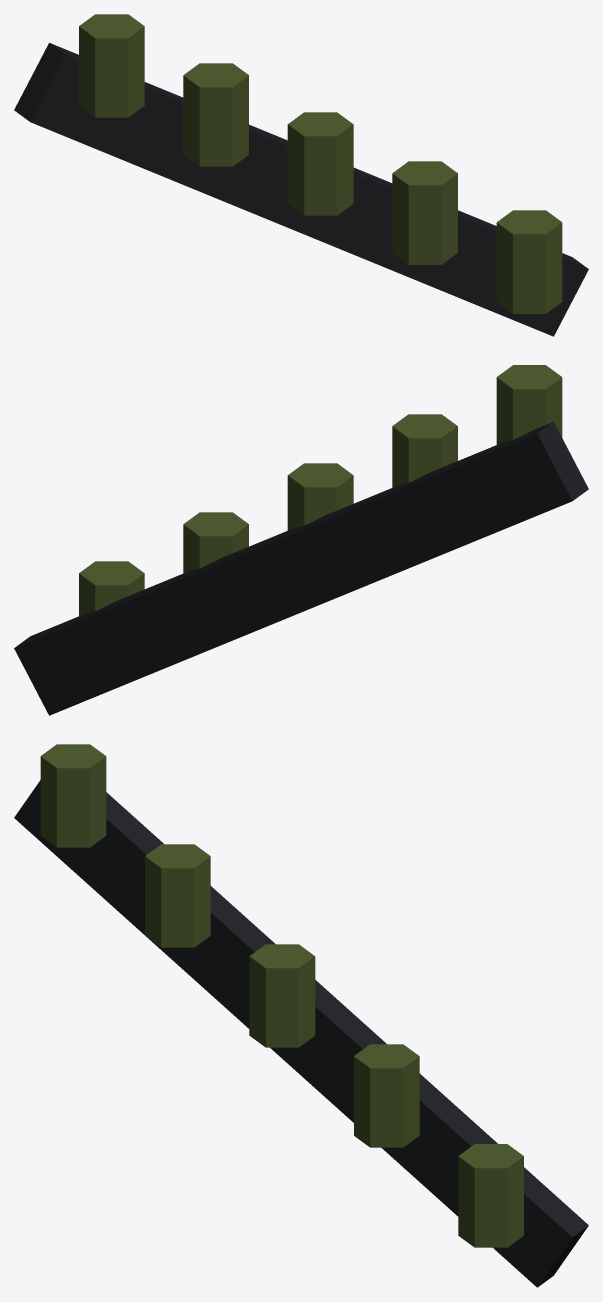
Rendered from dc_grenade_belt.glb.
3 renders of one model, top to bottom at view 1: azimuth 30°, elevation 25°; view 2: azimuth 150°, elevation 25°; view 3: azimuth 330°, elevation 25°, orthographic.
Visible parts, largest first — view 1: part.dc_grenade_belt; view 2: part.dc_grenade_belt; view 3: part.dc_grenade_belt.
Boxes of the visible parts, x1=… form: part.dc_grenade_belt: x1=14, y1=14, x2=588, y2=336; part.dc_grenade_belt: x1=14, y1=365, x2=588, y2=715; part.dc_grenade_belt: x1=14, y1=744, x2=588, y2=1287.
Bounding box in the file's own units: 0.5883 × 0.4319 × 0.08.
